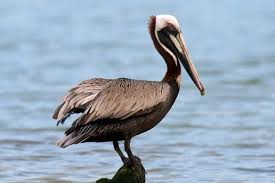pelican: (53, 14, 207, 168)
